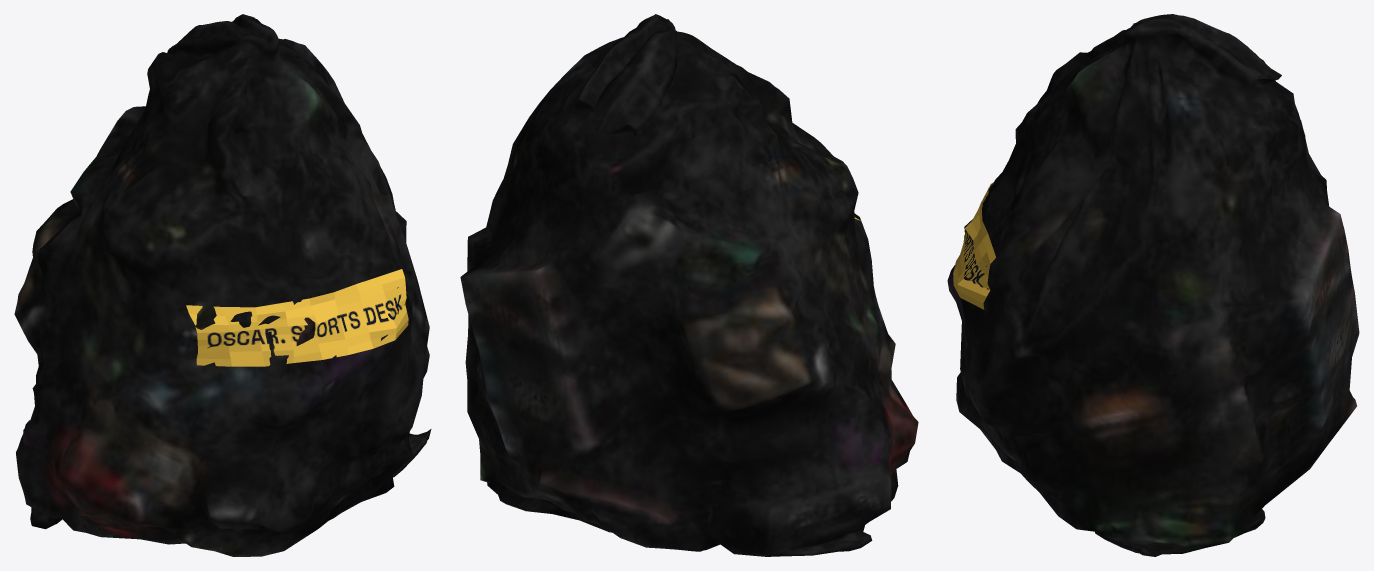
File: nyb_oddcouple_bag.glb
3 renders of one model, left to right at view 1: azimuth 30°, elevation 25°; view 2: azimuth 150°, elevation 25°; view 3: azimuth 270°, elevation 25°, orthographic. The views are drawn at different scales.
Parts seen in each view (by area): view 1: trashbag, stk_lbl_6857f5e6e3.png; view 2: trashbag; view 3: trashbag, stk_lbl_6857f5e6e3.png.
Part boxes in pixels (box(x1,y1,x2,y2)): trashbag: box(14, 14, 431, 556); stk_lbl_6857f5e6e3.png: box(186, 269, 408, 366); trashbag: box(460, 14, 918, 556); trashbag: box(947, 14, 1359, 556); stk_lbl_6857f5e6e3.png: box(953, 182, 995, 309).
Bounding box in the file's own units: 0.5281 × 0.575 × 0.4629.
Materials: 2 (2 with a texture image).
